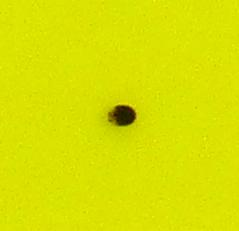Coleoptera: (100, 100, 139, 131)
